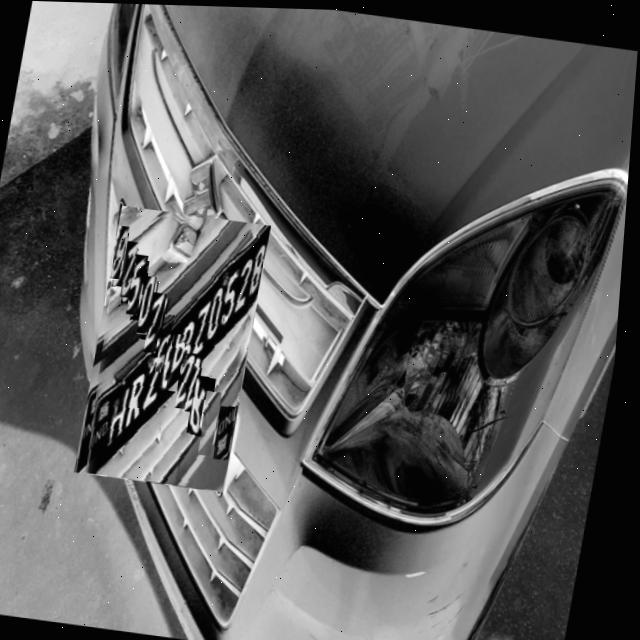0: (141, 275, 160, 334)
2: (181, 350, 203, 408), (122, 239, 142, 297)
5: (130, 253, 152, 314)
6: (169, 332, 191, 390)
8: (113, 225, 133, 280)
B: (160, 312, 180, 372)
H: (202, 389, 228, 454)
IND: (217, 403, 242, 458)
Indian_registered: (90, 224, 272, 472)
R: (193, 373, 215, 434)
Z: (148, 290, 171, 352)
